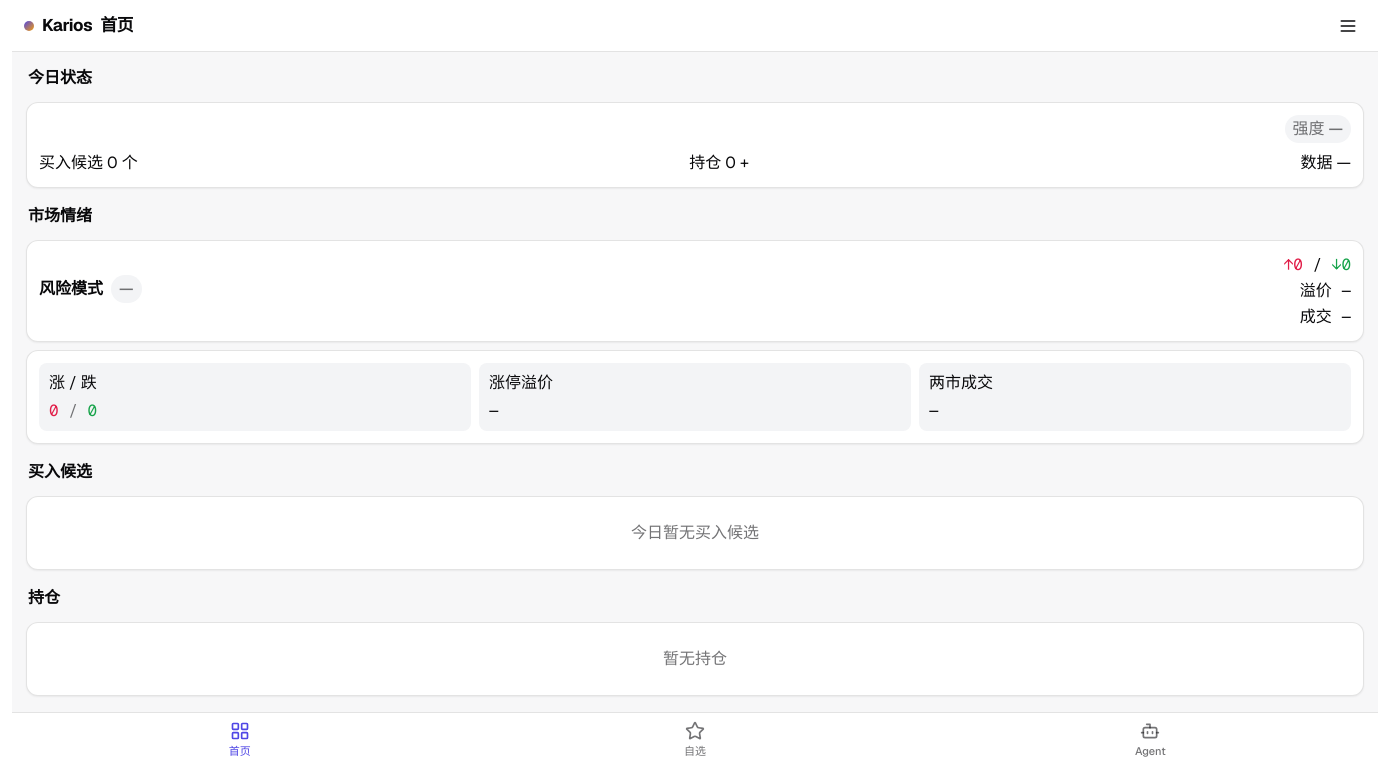
MobileShell (IA v2 — 3 tabs + header 更多) › 更多 panel opens with all remaining features
This screenshot has width=1390, height=768.
Click the button named "更多" at (1348, 26), box [1330,8,1366,44]
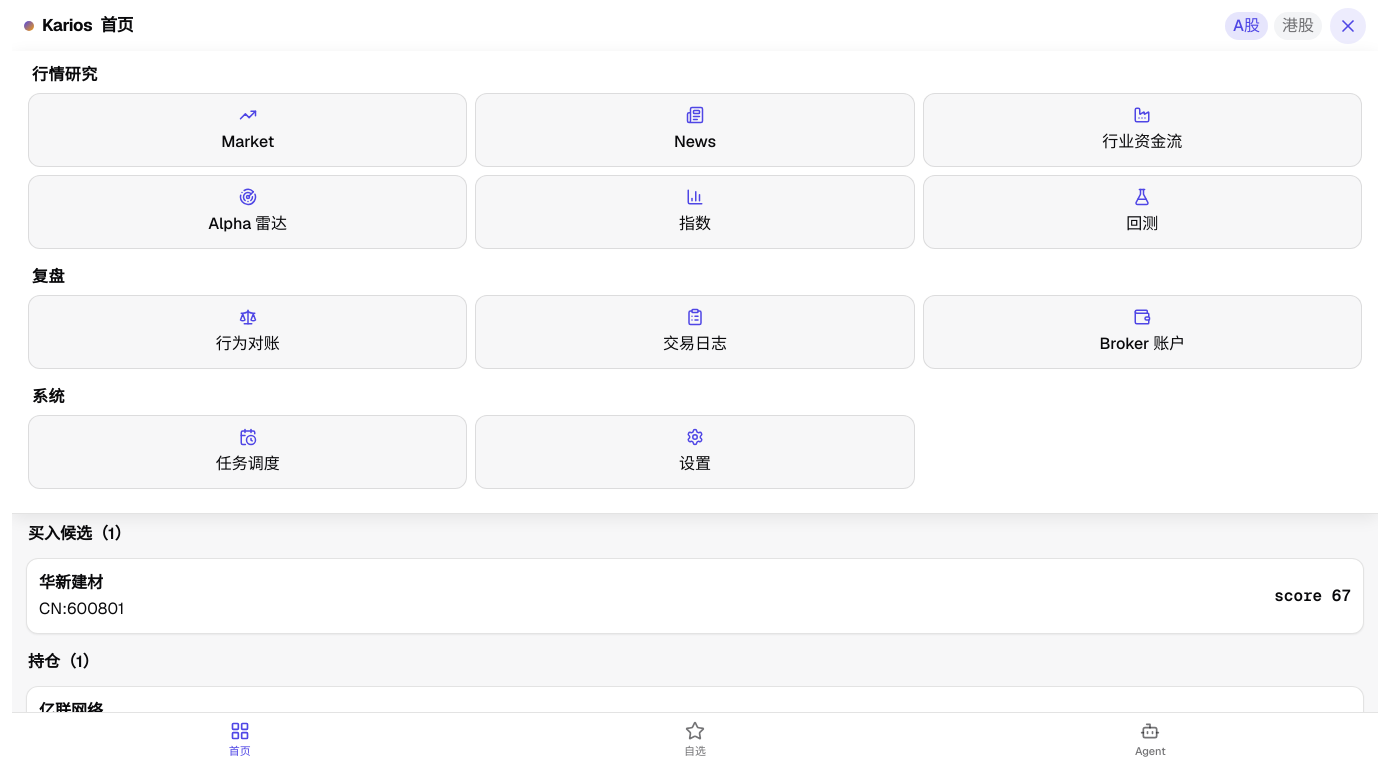
Check: the text "行为对账" is shown, box [216,332,280,356]
Check: the text "任务调度" is shown, box [216,452,280,476]
Check: the text "设置" is shown, box [679,452,711,476]
